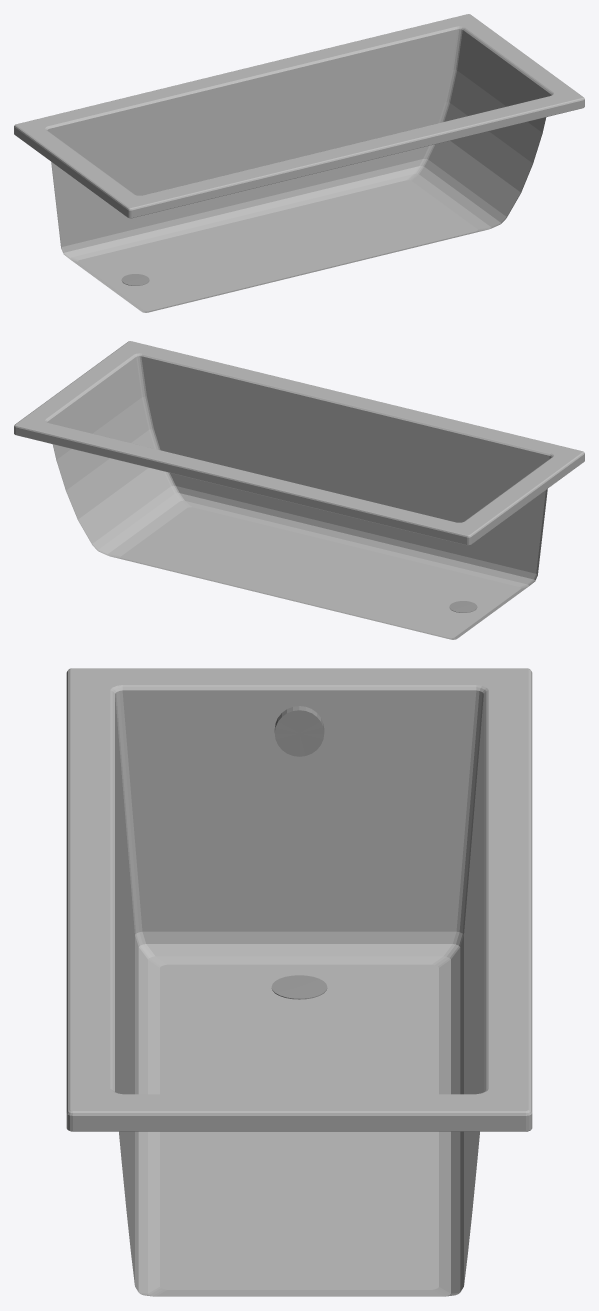
The model's file is AEC_29772.glb.
3 renders of one model, top to bottom at view 1: azimuth 30°, elevation 25°; view 2: azimuth 150°, elevation 25°; view 3: azimuth 270°, elevation 25°, orthographic. The views are drawn at different scales.
Parts seen in each view (by area): view 1: 0; view 2: 0; view 3: 0.
Part boxes in pixels (bbox=[...]): 0: bbox=[14, 14, 584, 312]; 0: bbox=[14, 341, 584, 639]; 0: bbox=[66, 668, 532, 1296].
Bounding box in the file's own units: 1.7 × 0.4599 × 0.7501.
Materials: 1 (1 with a texture image).
